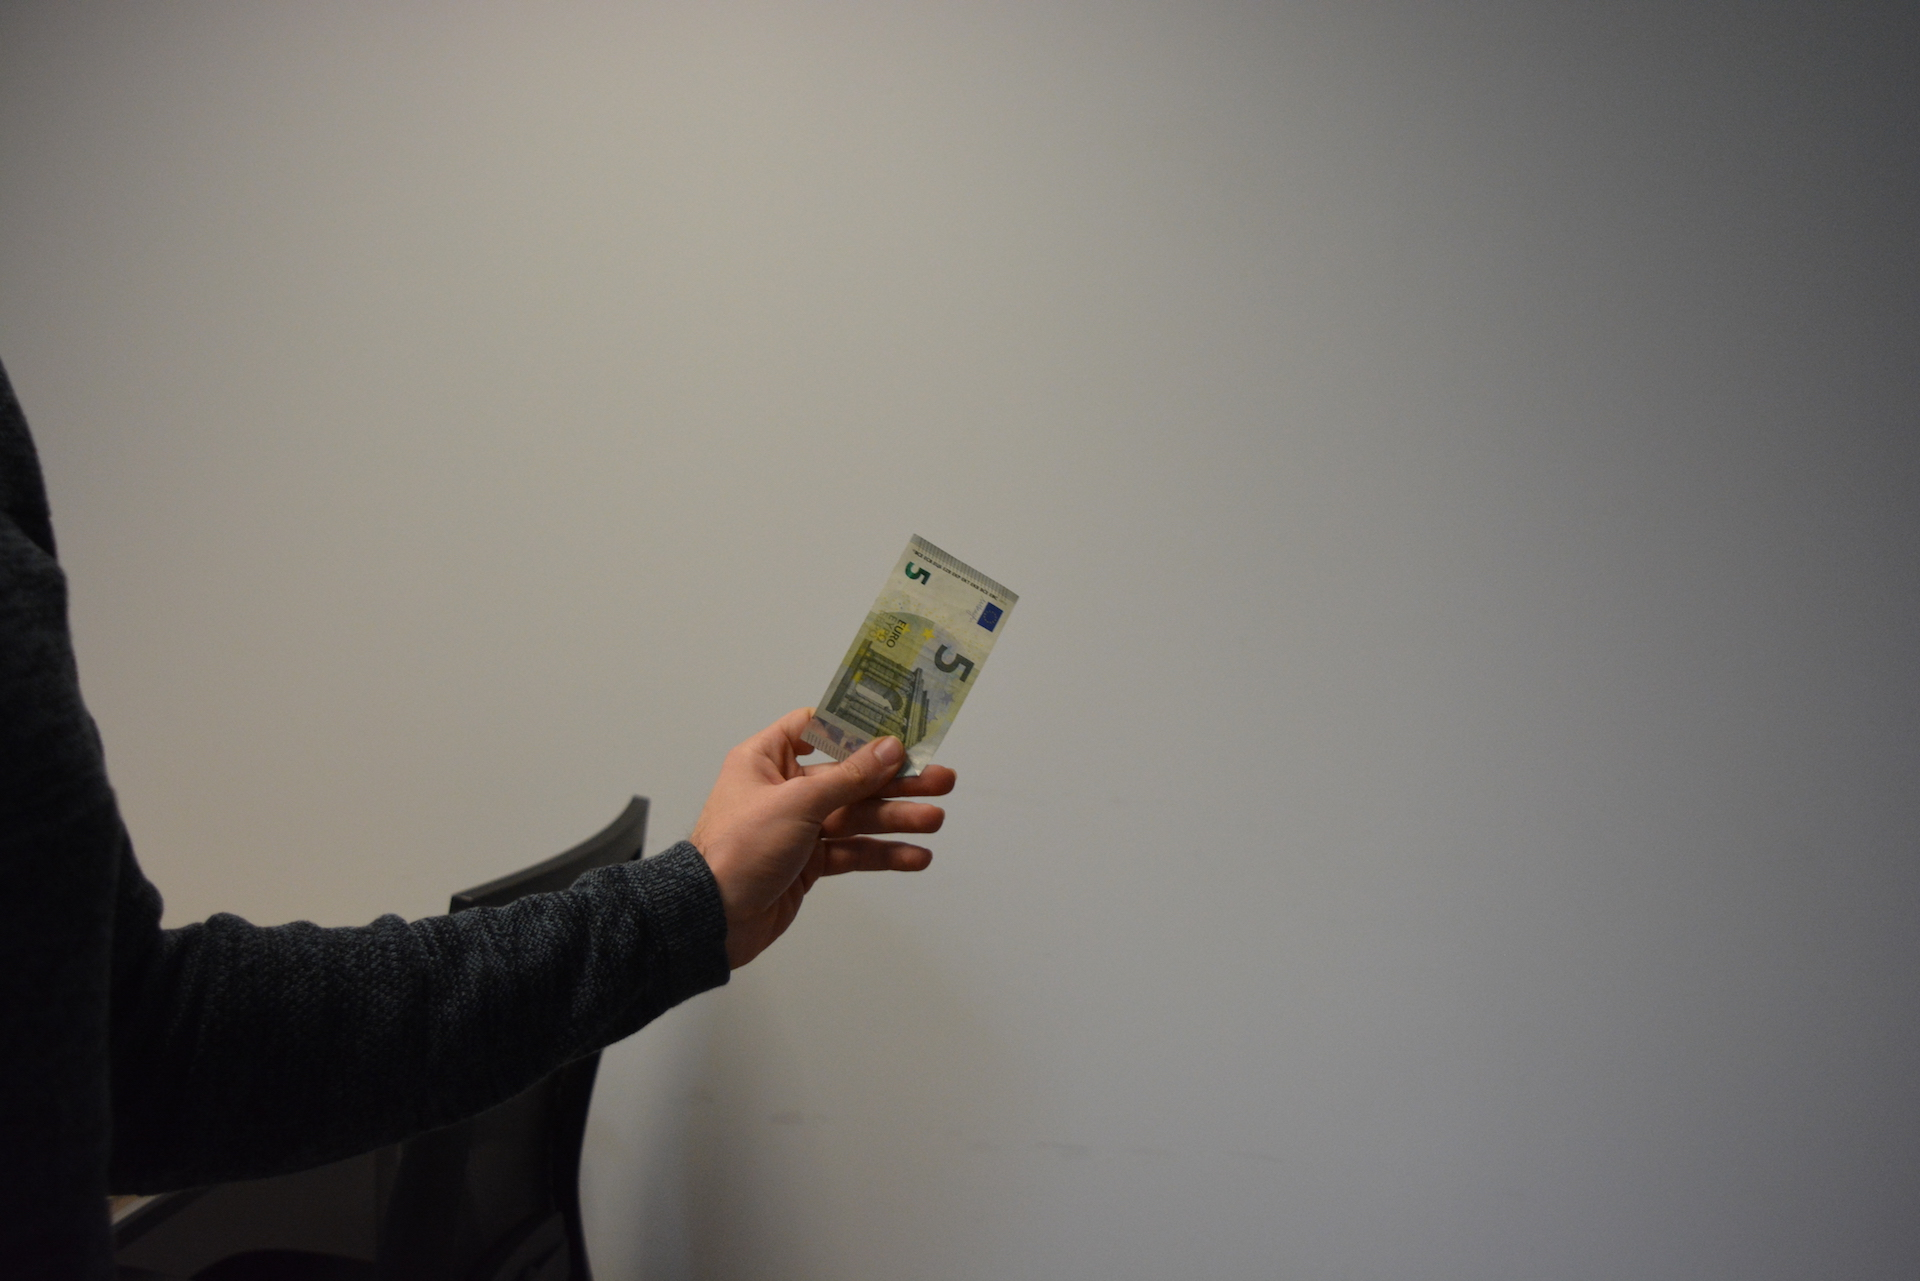billete: (798, 533, 1021, 781)
